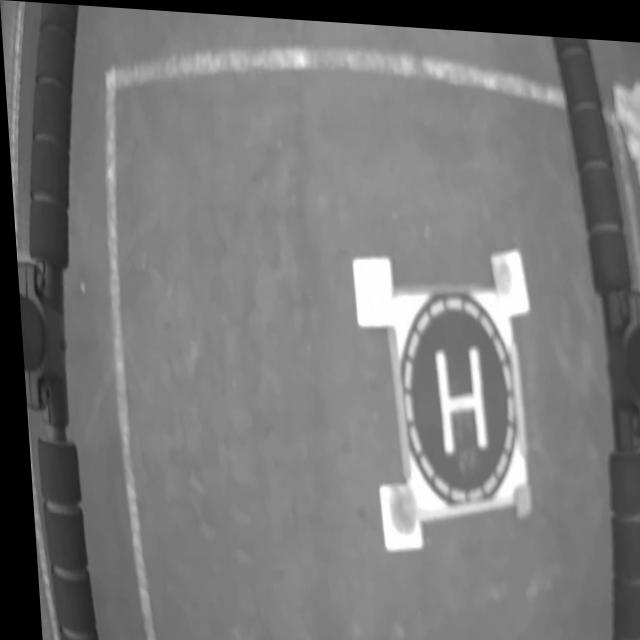Helipad: (429, 337, 484, 451)
